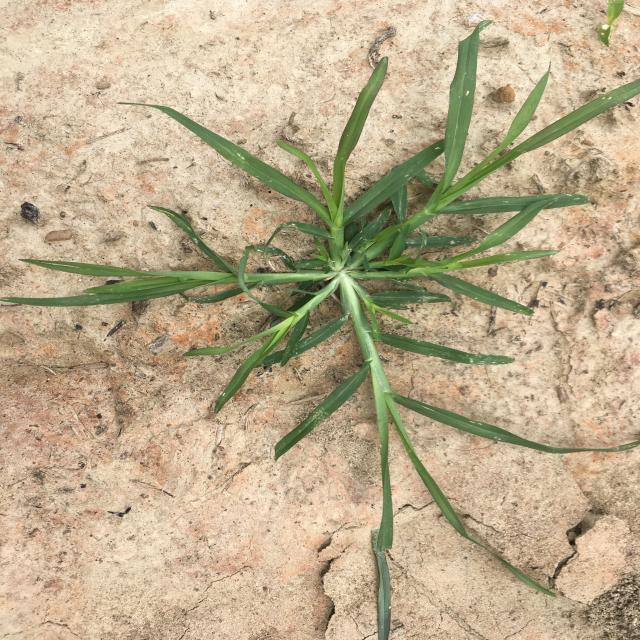Goosegrass: (2, 20, 638, 599)
